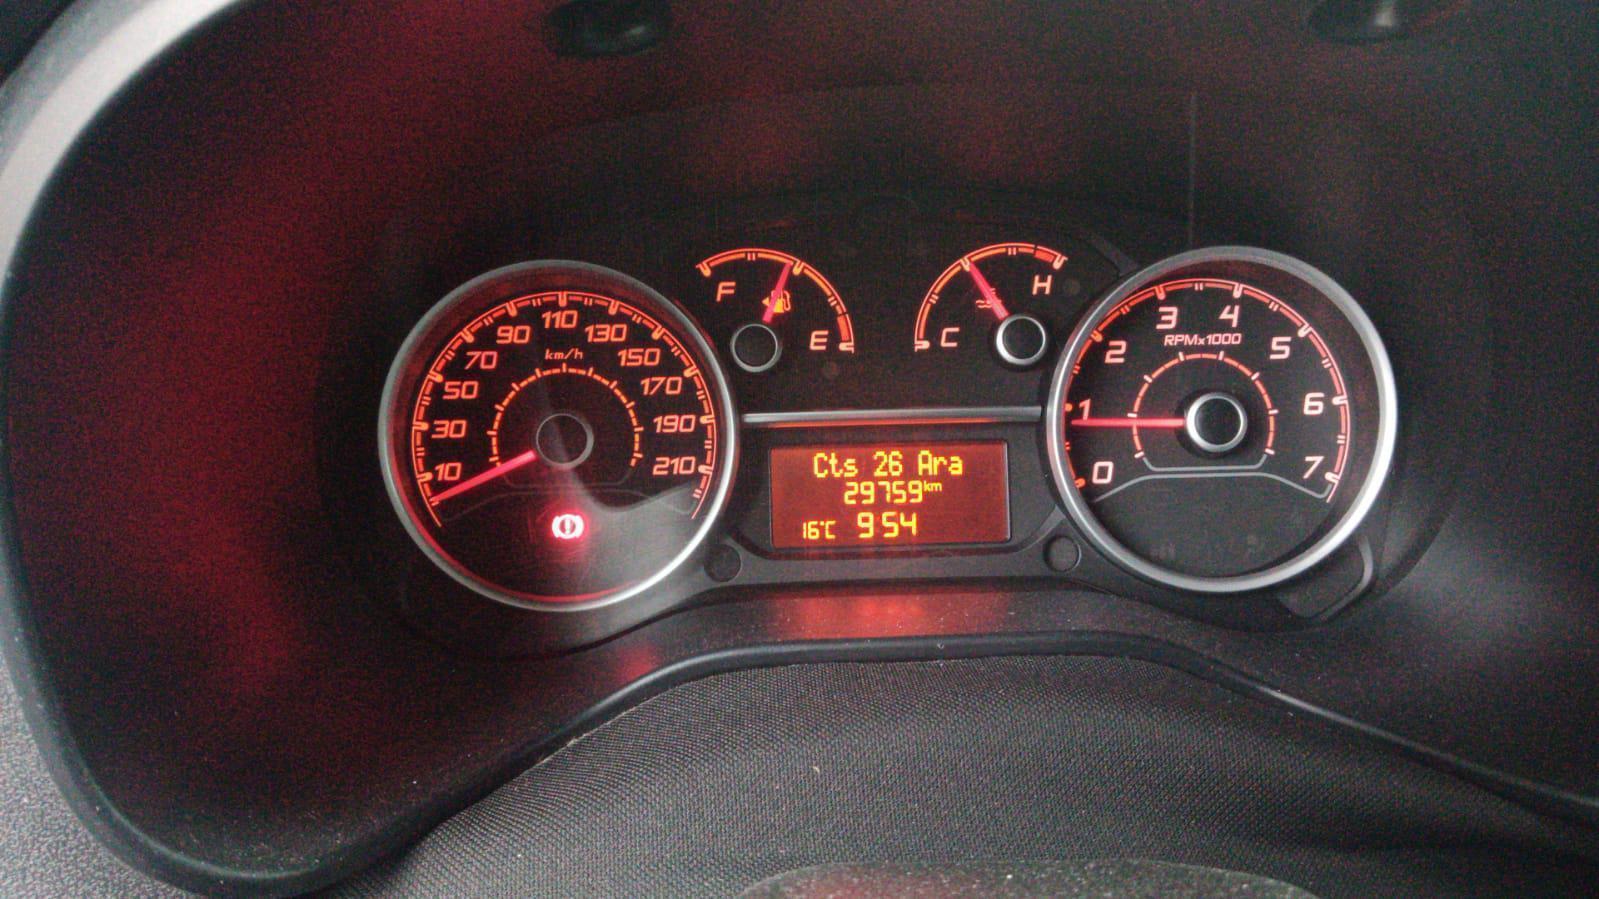1: (800, 521, 807, 541)
2: (872, 449, 888, 477), (843, 481, 857, 505)
4: (901, 510, 917, 536)
5: (881, 510, 899, 539), (892, 479, 906, 504)
6: (888, 449, 904, 477), (807, 519, 819, 541)
7: (877, 480, 891, 504)
9: (856, 512, 874, 540), (859, 480, 876, 504), (908, 479, 923, 504)
X: (813, 450, 829, 479), (917, 449, 933, 476), (948, 456, 965, 476), (824, 518, 839, 541), (830, 451, 842, 477), (843, 457, 858, 477), (933, 456, 948, 475), (930, 482, 942, 492), (923, 479, 930, 492)
odometer: (765, 443, 1016, 549)
